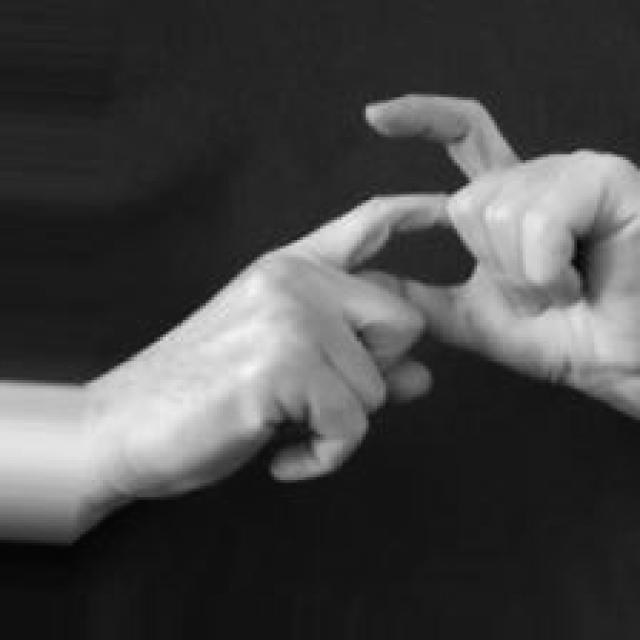G: (96, 92, 640, 512)
